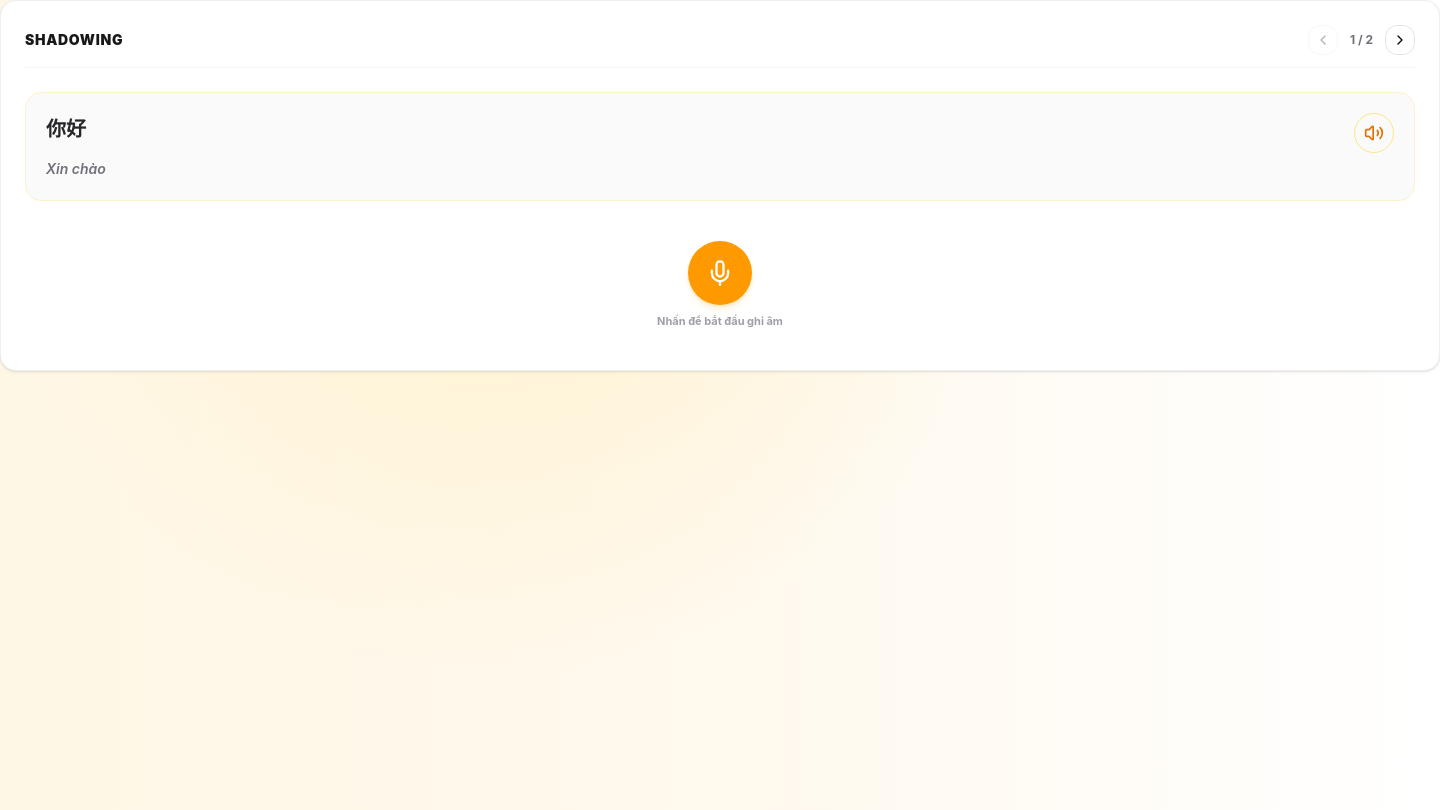
BilingualShadowing › navigates to next sentence
Click the button titled "Câu tiếp theo" at (1400, 40), box [1385, 25, 1415, 55]
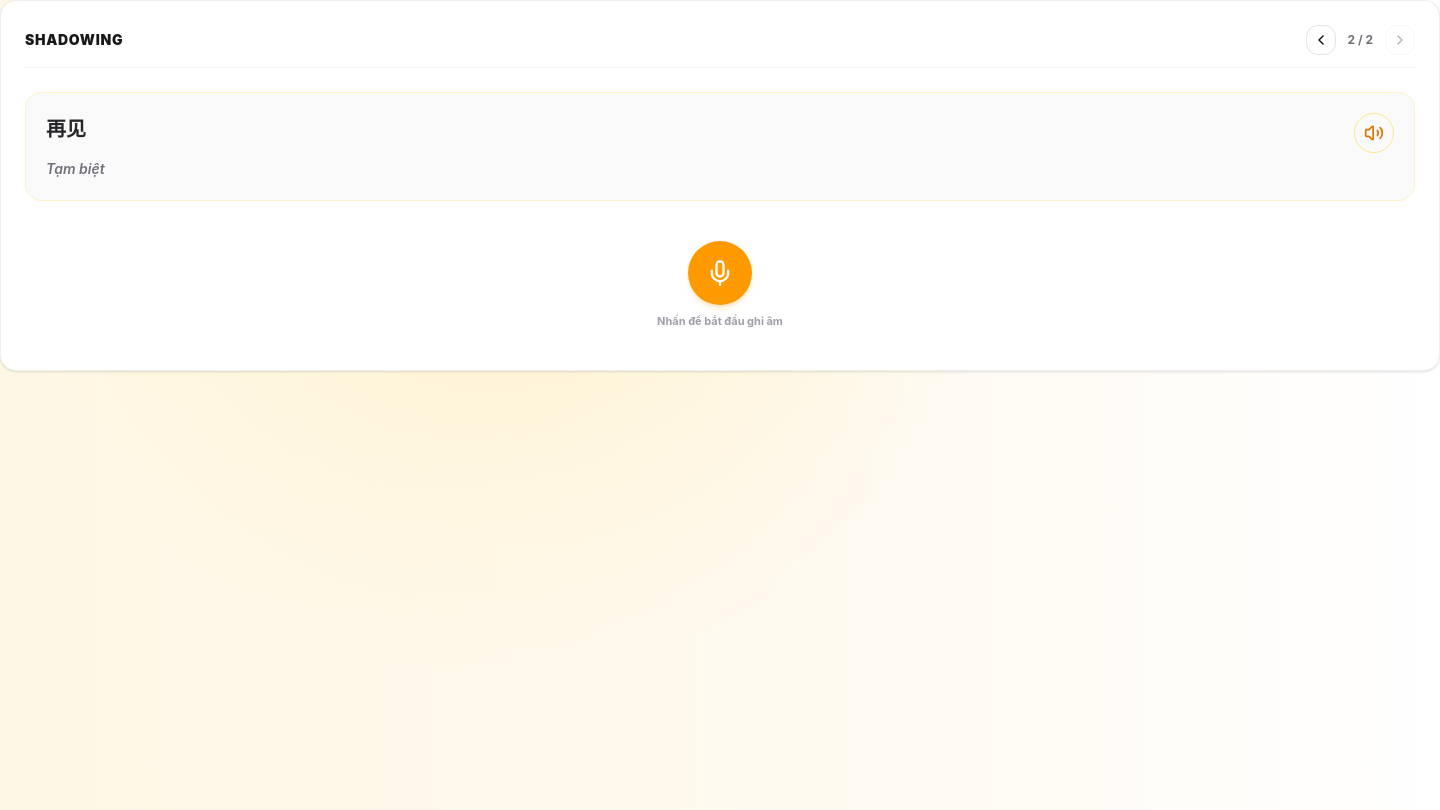
Check: the text "再见" is shown, box [46, 113, 86, 146]
Check: the text "2 / 2" is shown, box [1348, 32, 1373, 48]
